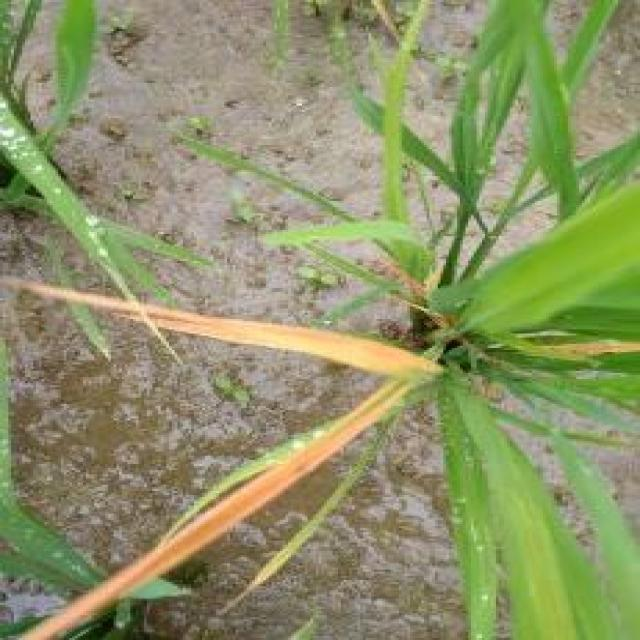Tungro: (12, 263, 463, 640)
